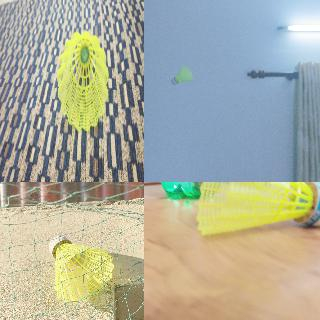shuttlecock: (195, 182, 319, 236), (56, 30, 109, 130), (48, 235, 114, 302), (172, 66, 192, 84)
